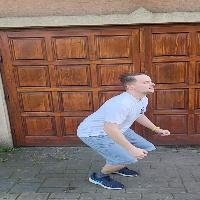high_jumps: (72, 60, 179, 192)
